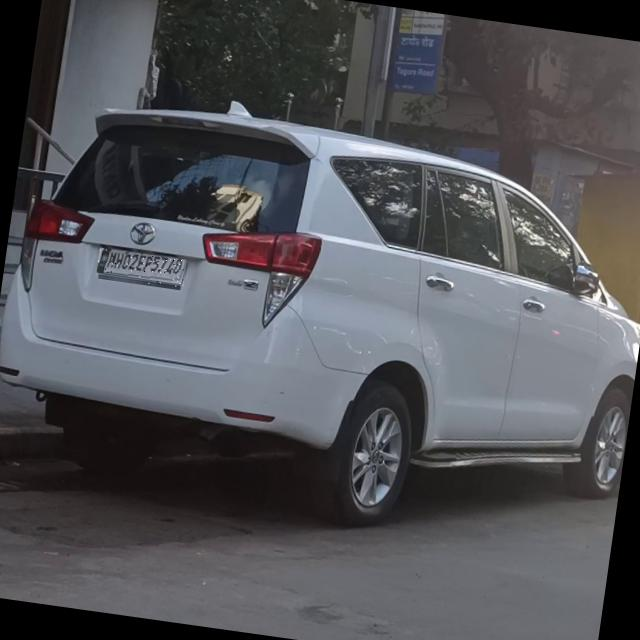Plate: (98, 249, 189, 291)
